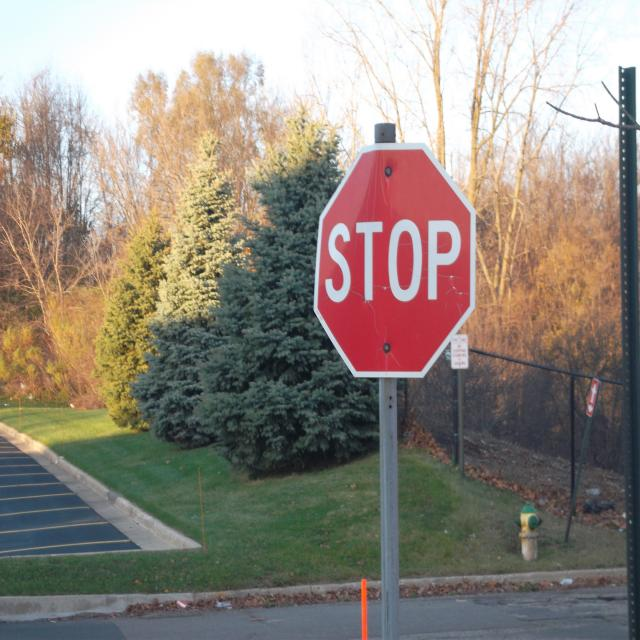stop: (308, 138, 482, 383)
